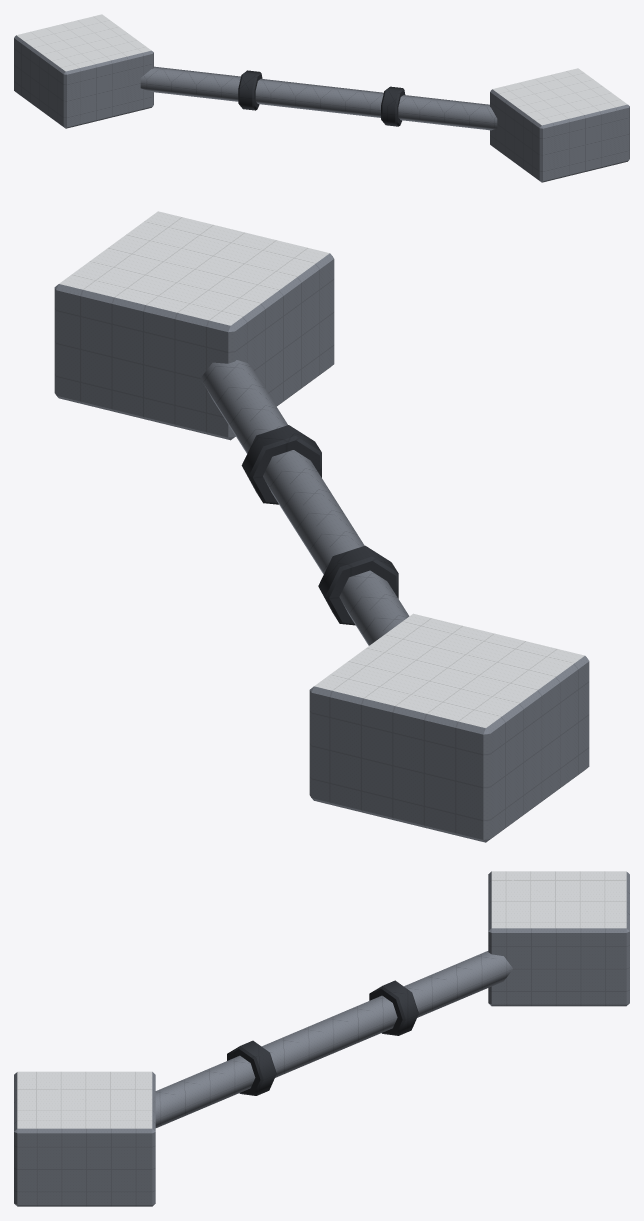
The model's file is R4C_ROD_DIAG_2D_LONG_LOD1.glb.
3 renders of one model, top to bottom at view 1: azimuth 30°, elevation 25°; view 2: azimuth 150°, elevation 25°; view 3: azimuth 270°, elevation 25°, orthographic. The views are drawn at different scales.
Parts seen in each view (by area): view 1: R4C_ROD_DIAG_2D_LONG_LOD1; view 2: R4C_ROD_DIAG_2D_LONG_LOD1; view 3: R4C_ROD_DIAG_2D_LONG_LOD1.
Boxes of the visible parts, <box> form: R4C_ROD_DIAG_2D_LONG_LOD1: <box>14,14,629,182</box>; R4C_ROD_DIAG_2D_LONG_LOD1: <box>54,211,589,842</box>; R4C_ROD_DIAG_2D_LONG_LOD1: <box>14,871,629,1206</box>.
Bounding box in the file's own units: 1.62 × 0.226 × 1.62.
Materials: 3 (3 with a texture image).
